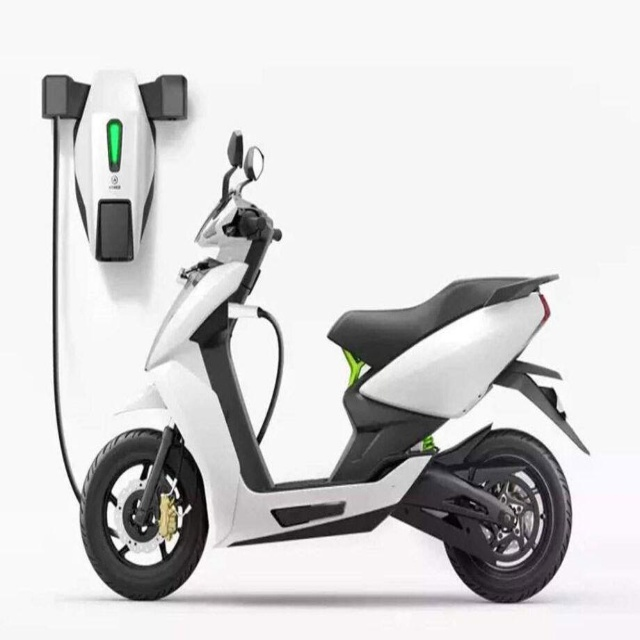Motorcycle: (79, 127, 591, 602)
